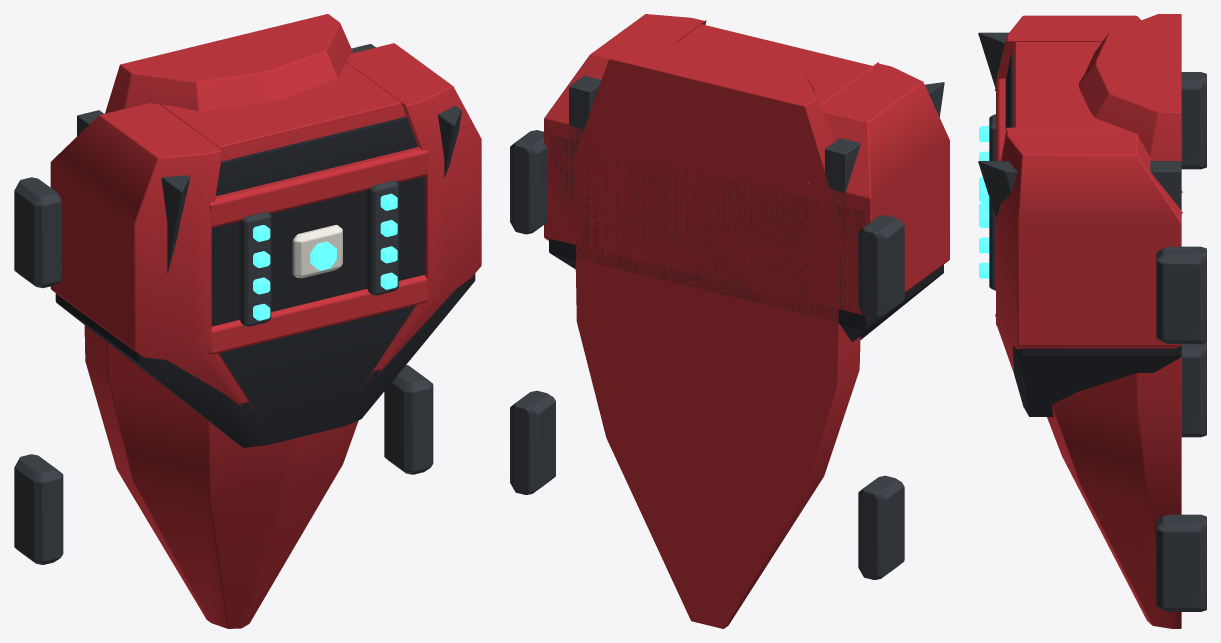
The model's file is ThighFront_Set10_Aegis.fbx.
3 renders of one model, left to right at view 1: azimuth 30°, elevation 25°; view 2: azimuth 150°, elevation 25°; view 3: azimuth 270°, elevation 25°, orthographic. The views are drawn at different scales.
Parts seen in each view (by area): view 1: ThighFront_Set10_Aegis; view 2: ThighFront_Set10_Aegis; view 3: ThighFront_Set10_Aegis.
Part boxes in pixels (left/top/right/bottom): ThighFront_Set10_Aegis: left=14, top=14, right=481, bottom=628; ThighFront_Set10_Aegis: left=510, top=14, right=949, bottom=628; ThighFront_Set10_Aegis: left=978, top=14, right=1206, bottom=628.
Bounding box in the file's own units: 0.53 × 0.73 × 0.2711.
